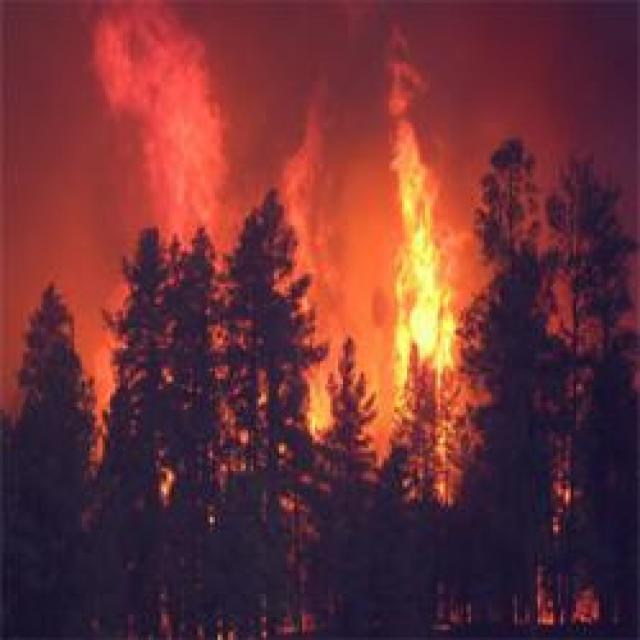fire: (82, 13, 486, 448)
